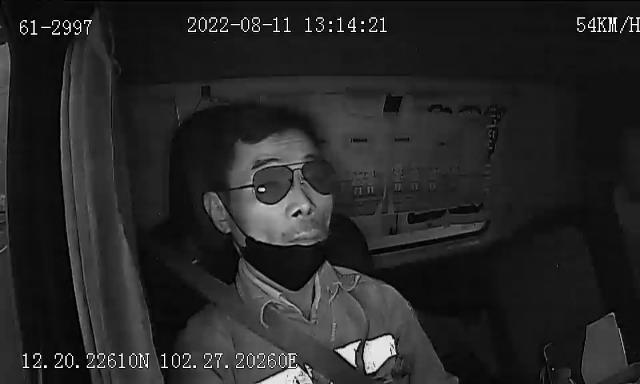SafeDriving: (418, 96, 460, 121)
Seatbelt: (170, 256, 386, 384)
